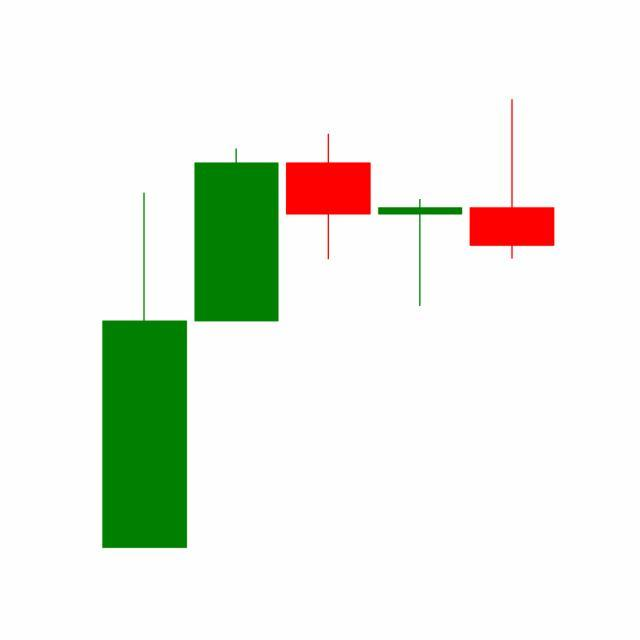Spinning Top: (374, 198, 468, 308)
